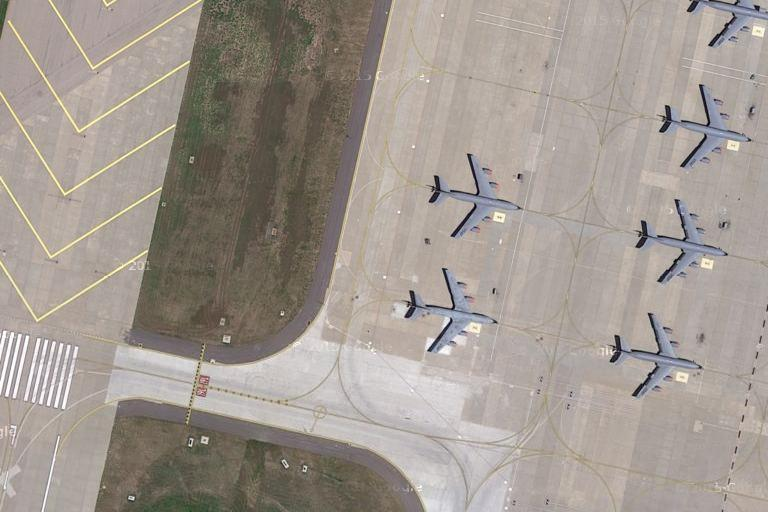KC-135: (397, 265, 498, 359), (655, 80, 754, 174), (425, 149, 524, 243), (605, 310, 703, 401), (631, 194, 729, 281), (677, 2, 768, 55)
